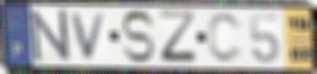5: (248, 13, 281, 65)
C: (206, 11, 245, 65)
N: (29, 8, 73, 64)
S: (120, 10, 156, 65)
V: (69, 12, 109, 62)
Z: (157, 10, 201, 66)
